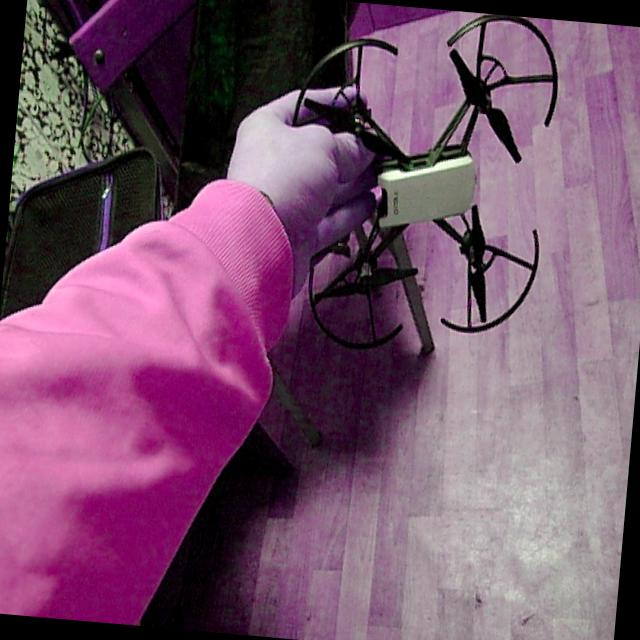drone: (268, 0, 576, 376)
